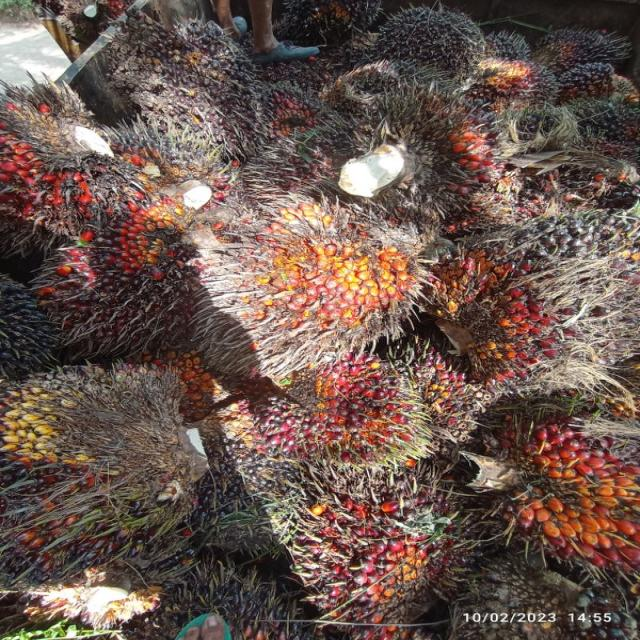fraksi 00: (0, 342, 240, 549), (52, 170, 212, 340), (118, 5, 287, 156), (184, 416, 313, 548), (358, 0, 506, 87), (328, 45, 430, 125), (231, 66, 320, 140), (553, 77, 640, 150), (562, 47, 638, 114), (543, 15, 616, 84), (485, 47, 559, 109), (478, 21, 539, 71)
fraksi 1: (277, 479, 444, 640)
fraksi 3: (168, 176, 435, 361), (453, 233, 640, 411), (258, 344, 451, 486), (485, 414, 640, 586)
fraksi 4: (0, 79, 149, 227)
